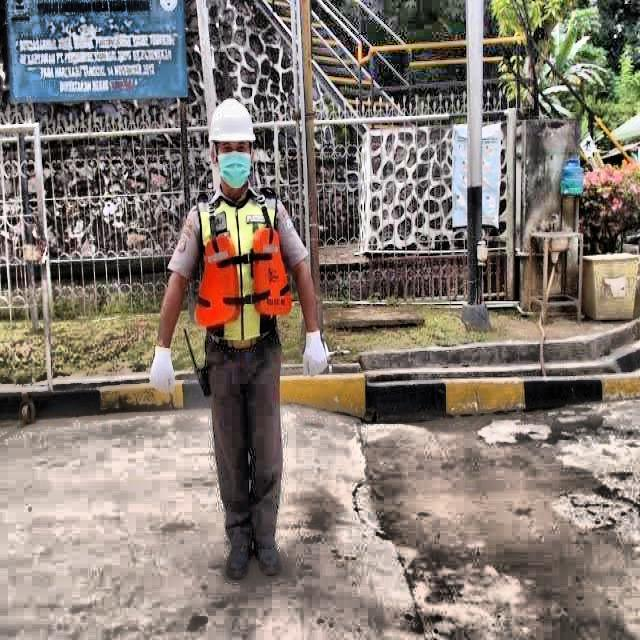safety_helmet: (207, 96, 260, 153)
safety_jacket: (189, 187, 294, 367)
